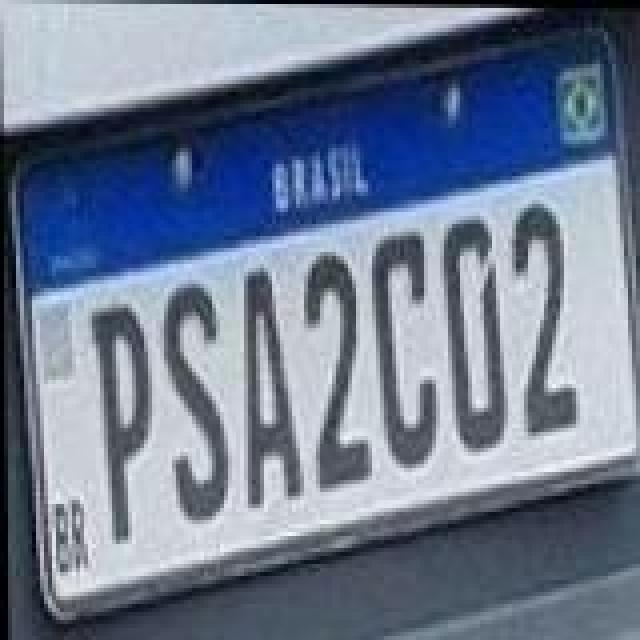2: (300, 250, 372, 494), (508, 198, 580, 438)
A: (242, 266, 302, 510)
C: (368, 226, 440, 470)
D: (442, 216, 510, 452)
P: (92, 304, 156, 548)
S: (160, 280, 232, 524)
